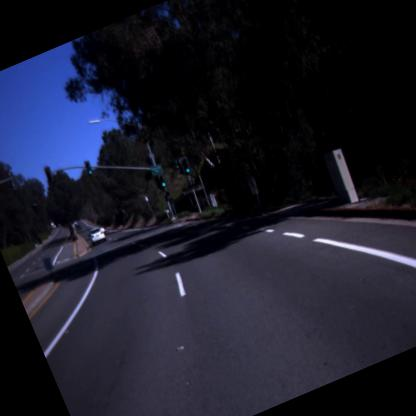trafficlight: (178, 154, 192, 176), (84, 160, 95, 176), (158, 172, 168, 188)
